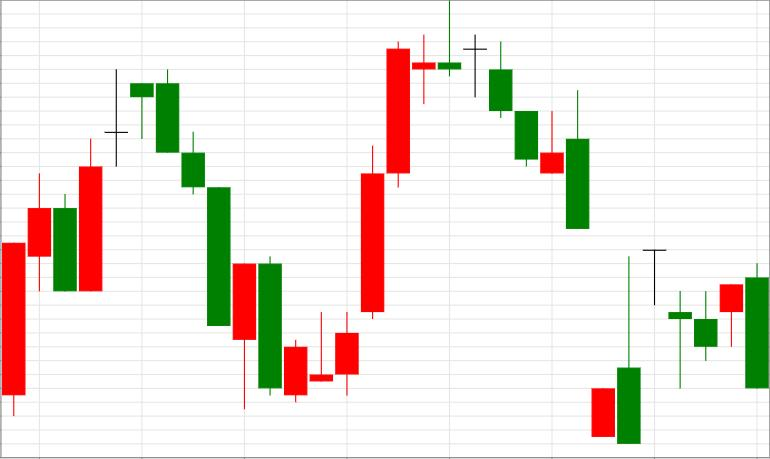three_black_crows_fall: (2, 69, 231, 416)
three_white_soldiers_rise: (129, 41, 410, 403)
